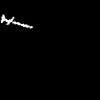double_crochet: (1, 15, 31, 27)
